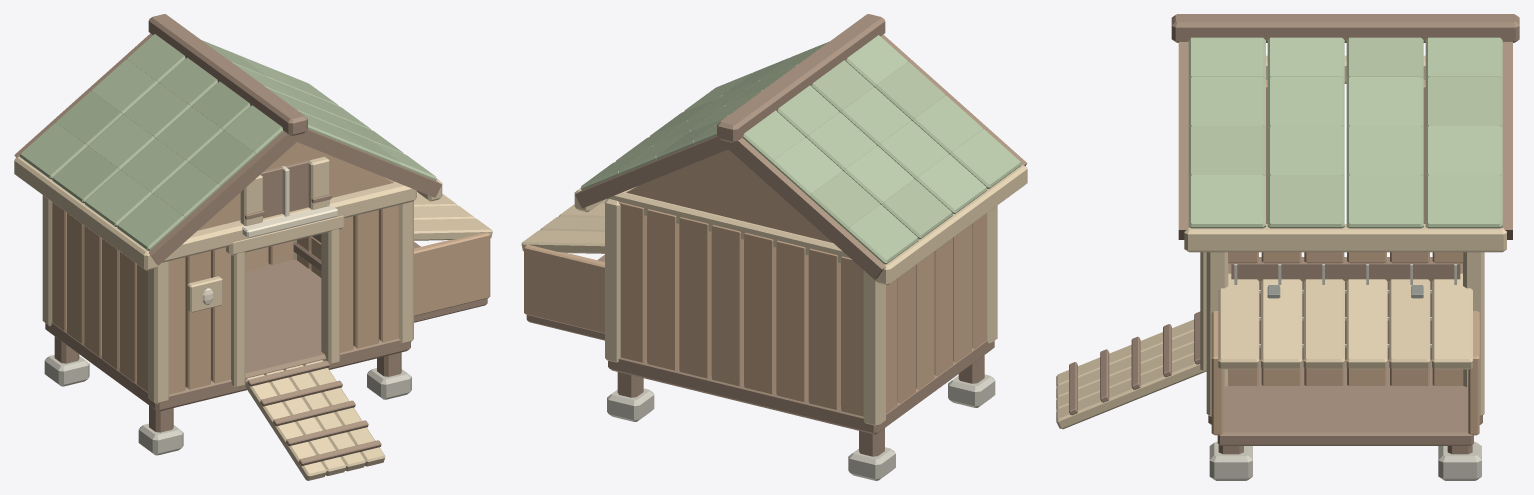
The model's file is crafted-coop-1-ready.glb.
3 renders of one model, left to right at view 1: azimuth 30°, elevation 25°; view 2: azimuth 150°, elevation 25°; view 3: azimuth 270°, elevation 25°, orthographic. The views are drawn at different scales.
Parts seen in each view (by area): view 1: floor, nest-cheek-1, ridge-cap, header-1, siding-30, barge-board-1, eave-fascia, corner-post-1, gable-1, siding-27, siding-31, barge-board-3 (+57 smaller); view 2: gable, nest-cheek, floor, siding-3, siding-5, siding-2, siding-6, siding-1, siding-4, ridge-cap, siding-7, barge-board (+41 smaller); view 3: nest-floor, ridge-cap, eave-fascia-1, vent-dark-interior, roof-tile-29, roof-tile-30, roof-tile-31, roof-tile-28, roof-tile-23, roof-tile-27, roof-tile-20, roof-tile-21 (+36 smaller).
Boxes of the visible parts, bbox=[...] form: floor: bbox=[45, 260, 410, 411]; nest-cheek-1: bbox=[414, 232, 490, 316]; ridge-cap: bbox=[148, 14, 307, 135]; header-1: bbox=[162, 182, 416, 262]; siding-30: bbox=[353, 210, 378, 348]; barge-board-1: bbox=[148, 131, 300, 265]; eave-fascia: bbox=[14, 156, 158, 270]; corner-post-1: bbox=[148, 261, 169, 403]; gable-1: bbox=[198, 142, 393, 230]; siding-27: bbox=[185, 251, 210, 389]; siding-31: bbox=[379, 205, 398, 342]; barge-board-3: bbox=[294, 129, 441, 197]; gable: bbox=[626, 149, 833, 243]; nest-cheek: bbox=[524, 244, 604, 333]; floor: bbox=[608, 340, 994, 434]; siding-3: bbox=[744, 232, 776, 394]; siding-5: bbox=[679, 217, 711, 378]; siding-2: bbox=[776, 240, 808, 401]; siding-6: bbox=[647, 209, 679, 370]; siding-1: bbox=[808, 248, 840, 409]; siding-4: bbox=[711, 225, 743, 386]; ridge-cap: bbox=[717, 14, 885, 142]; siding-7: bbox=[618, 202, 646, 362]; barge-board: bbox=[725, 137, 885, 279]; nest-floor: bbox=[1217, 379, 1473, 445]; ridge-cap: bbox=[1171, 14, 1519, 42]; eave-fascia-1: bbox=[1184, 224, 1506, 252]; vent-dark-interior: bbox=[1231, 262, 1460, 359]; roof-tile-29: bbox=[1346, 175, 1423, 228]; roof-tile-30: bbox=[1267, 175, 1344, 228]; roof-tile-31: bbox=[1188, 175, 1265, 228]; roof-tile-28: bbox=[1425, 175, 1502, 228]; roof-tile-23: bbox=[1188, 77, 1265, 127]; roof-tile-27: bbox=[1188, 126, 1265, 176]; roof-tile-20: bbox=[1425, 77, 1502, 126]; roof-tile-21: bbox=[1346, 77, 1423, 126].
Size of the model in its own units: 2.22 by 1.88 by 2.02.
